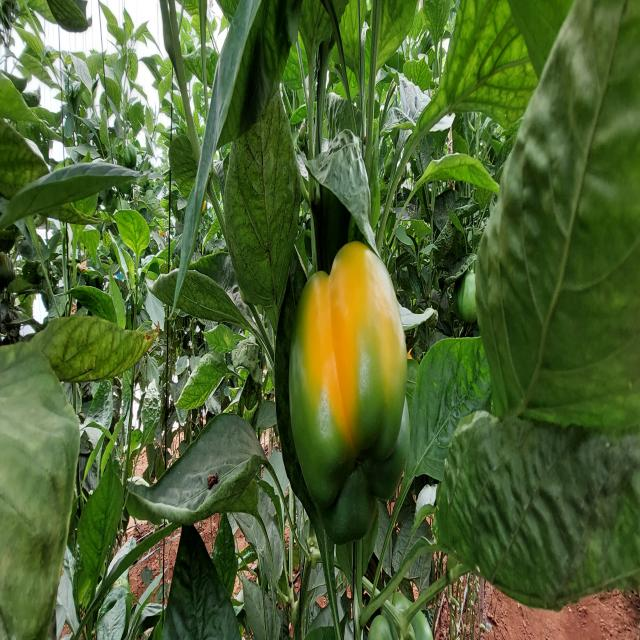GreenishYellow--Can-be-Harvested: (276, 233, 422, 553)
